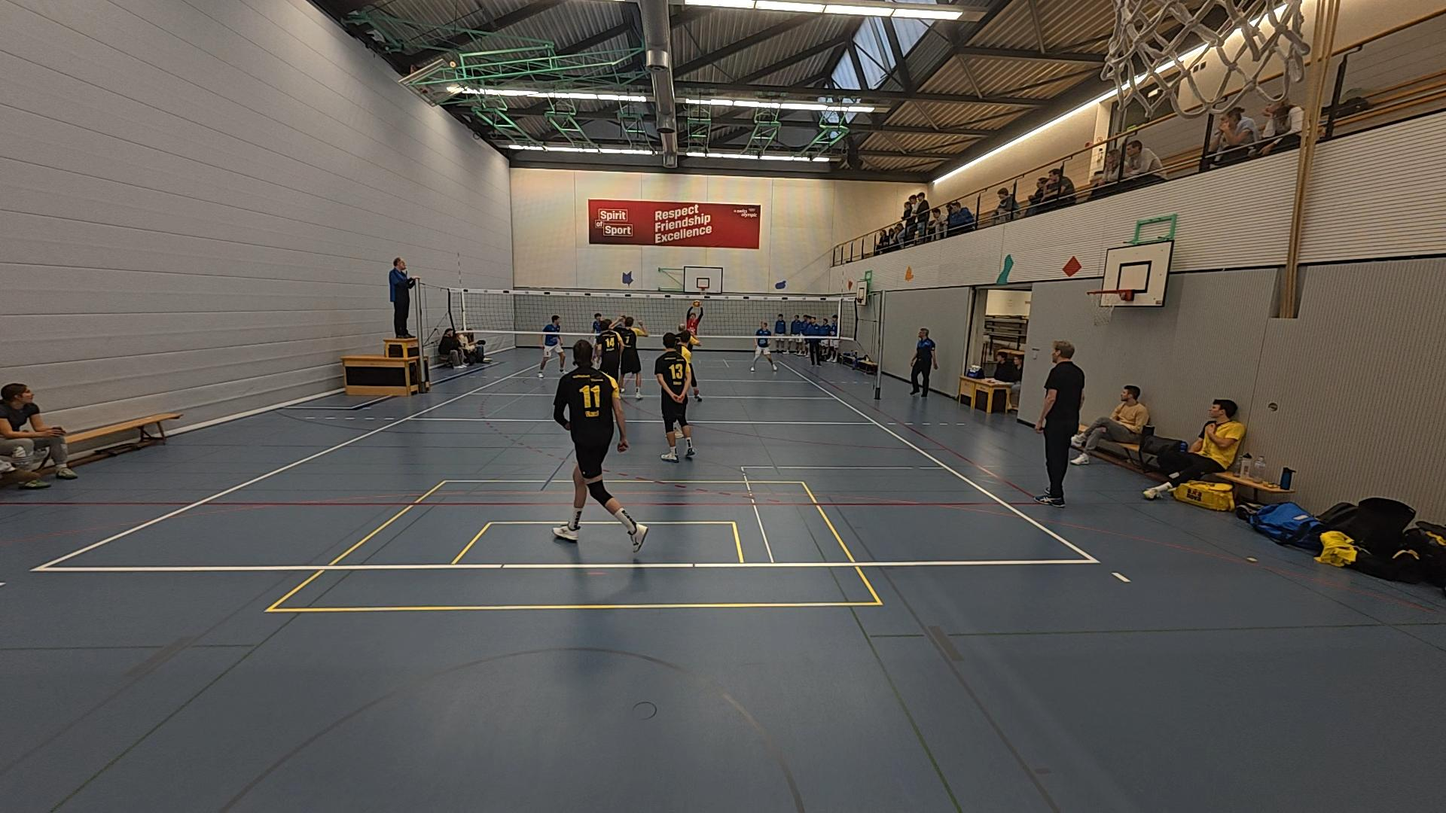Player: (553, 341, 646, 545), (655, 333, 696, 461), (613, 315, 645, 399), (593, 320, 624, 396), (676, 322, 704, 403), (536, 313, 565, 380), (750, 318, 776, 370), (590, 311, 610, 354)
Receive: (682, 298, 705, 352)
ball: (901, 264, 917, 281), (692, 298, 702, 310)
